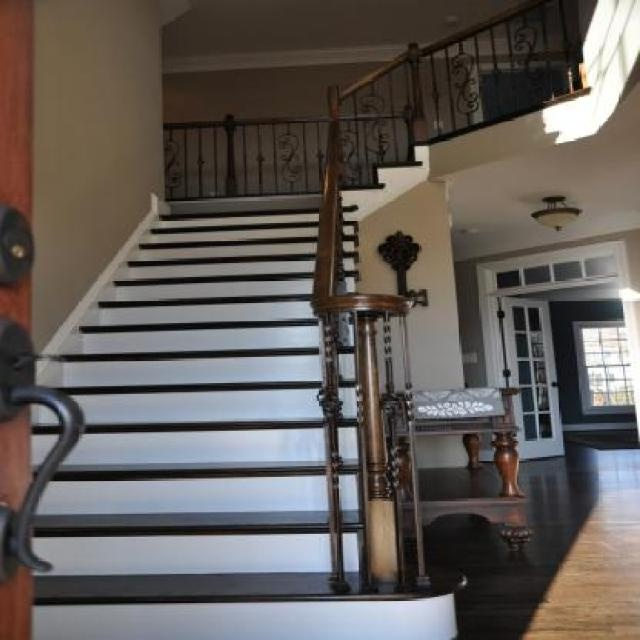stair: (23, 86, 589, 640)
